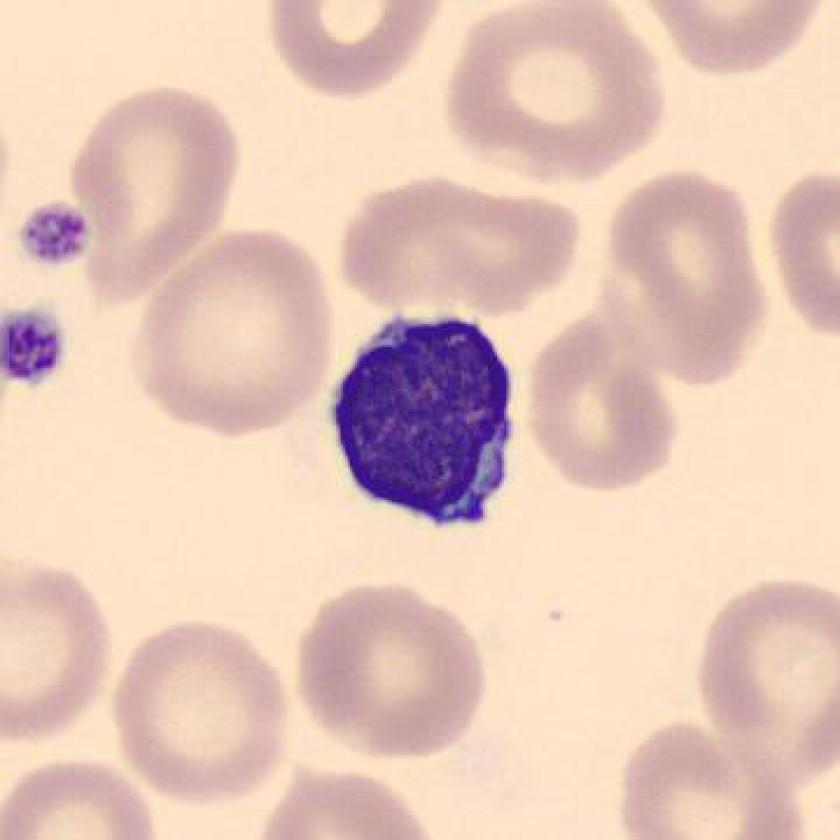lymphocyte: (309, 295, 540, 549)
